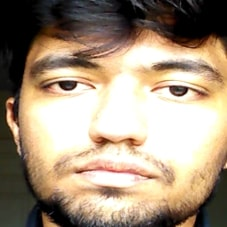drowsy: (30, 38, 227, 206)
